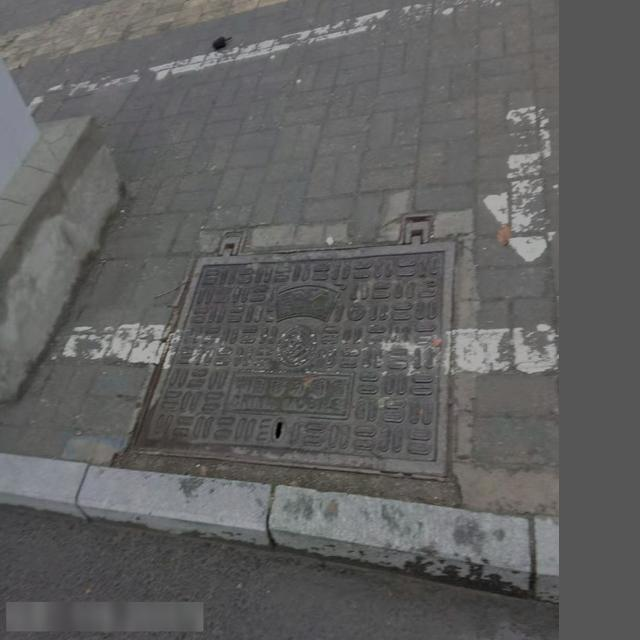good: (133, 215, 456, 486)
